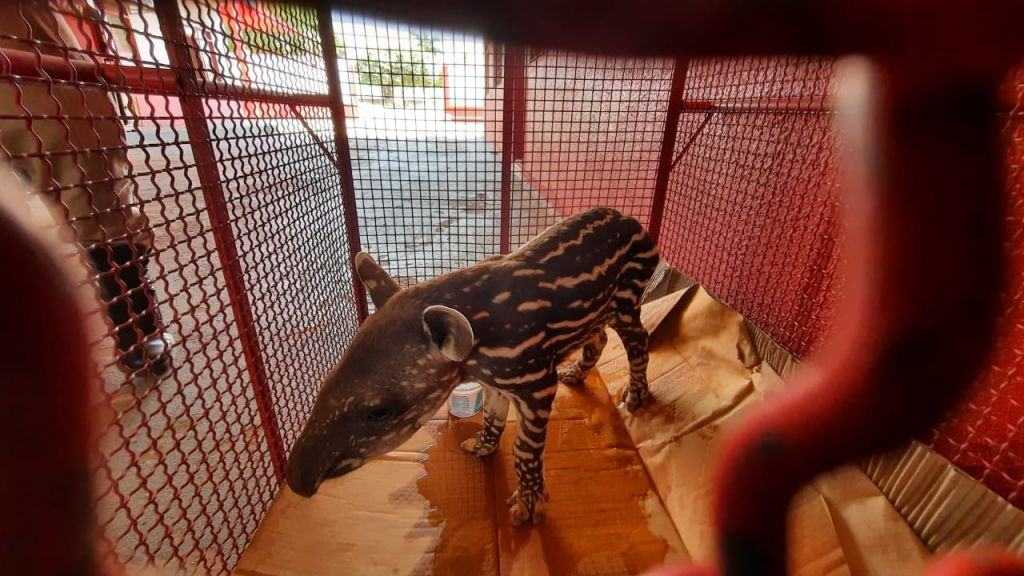Anta: (268, 186, 670, 545)
